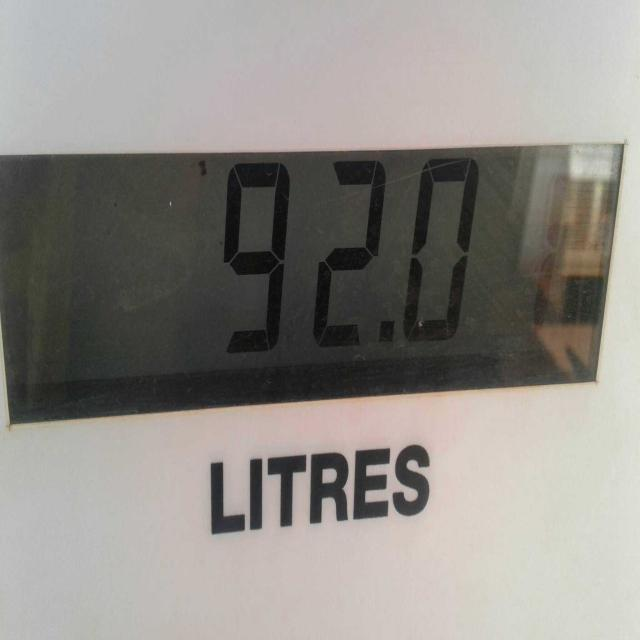.: (367, 303, 401, 365)
0: (398, 151, 482, 365)
2: (312, 150, 391, 366)
9: (212, 157, 308, 370)
